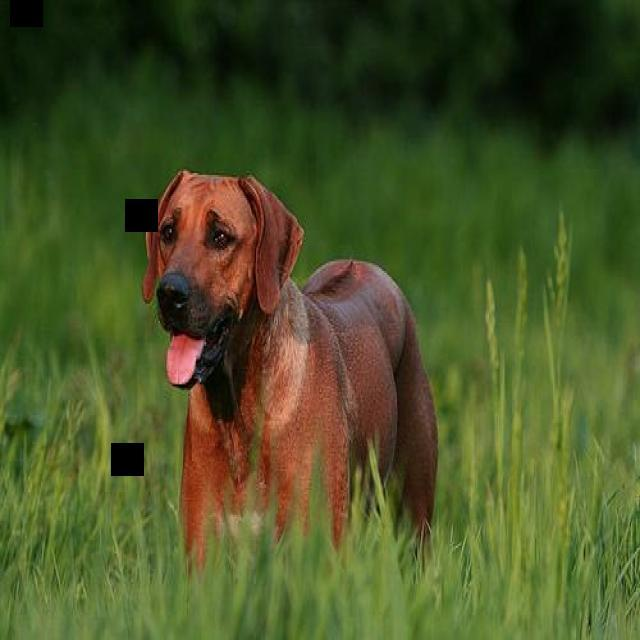adult_dog: (141, 168, 442, 577)
